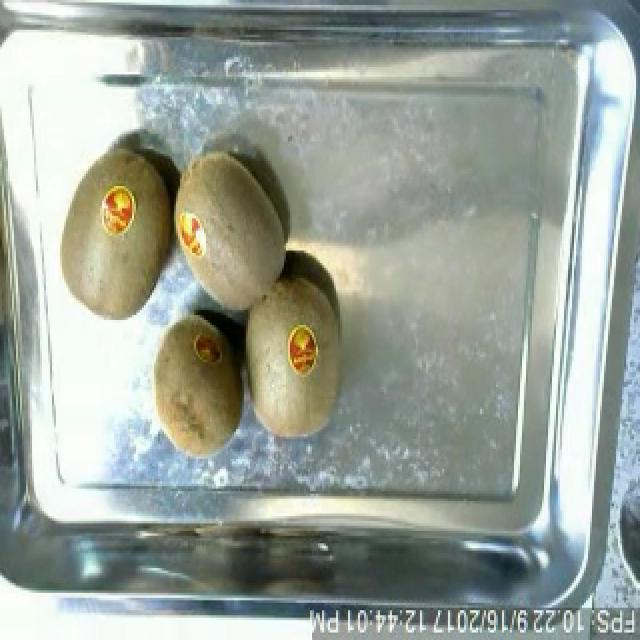Fruit: (160, 139, 298, 327), (234, 265, 354, 449), (142, 302, 250, 468)
